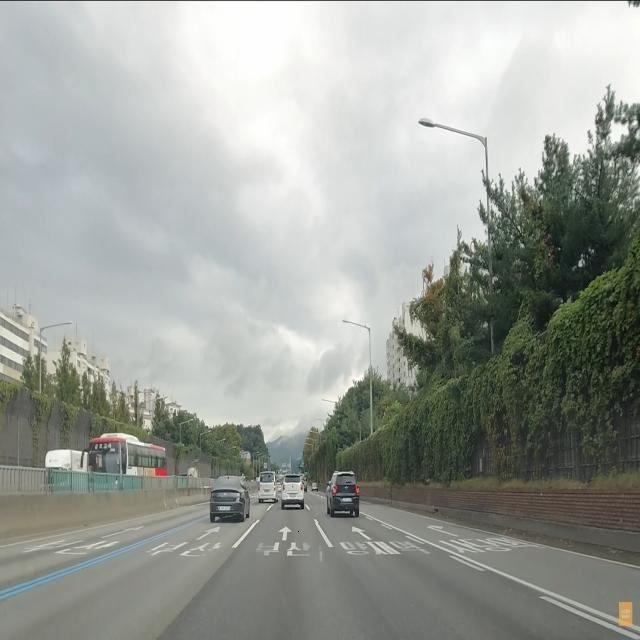forward: (226, 523, 339, 551)
